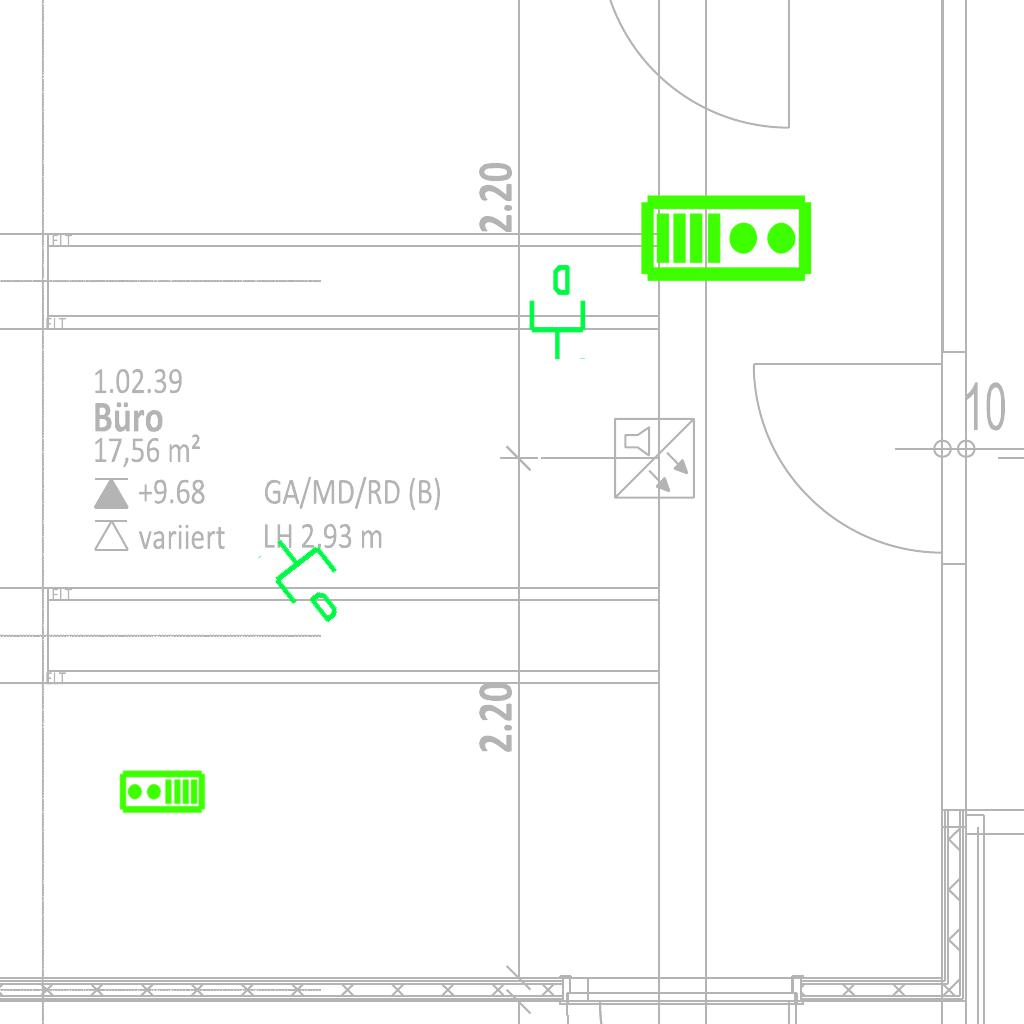Datenanschluss_einfach: (251, 516, 368, 638), (521, 262, 590, 362)
Gegensprechanlage_mit_Video: (639, 189, 815, 284), (118, 769, 206, 816)
